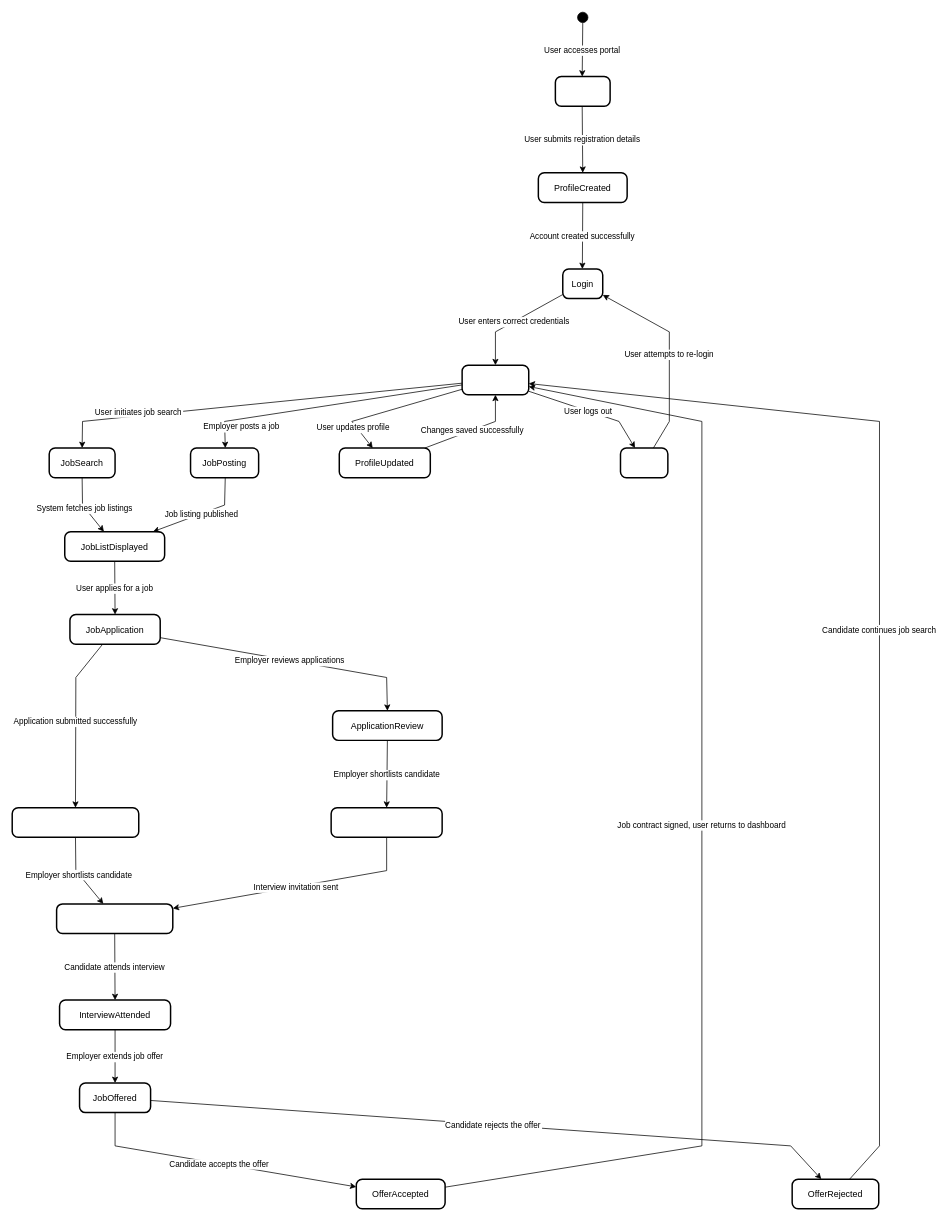
The diagram is 949 pixels wide and 1221 high, and some of its shapes have lost their labels. The centre of each missing label's shape, as x and y in pixels:
ApplicationSubmitted: point (75, 822)
CandidateSelected: point (386, 822)
Dashboard: point (495, 379)
InterviewScheduled: point (114, 918)
Logout: point (643, 462)
Register: point (582, 91)
